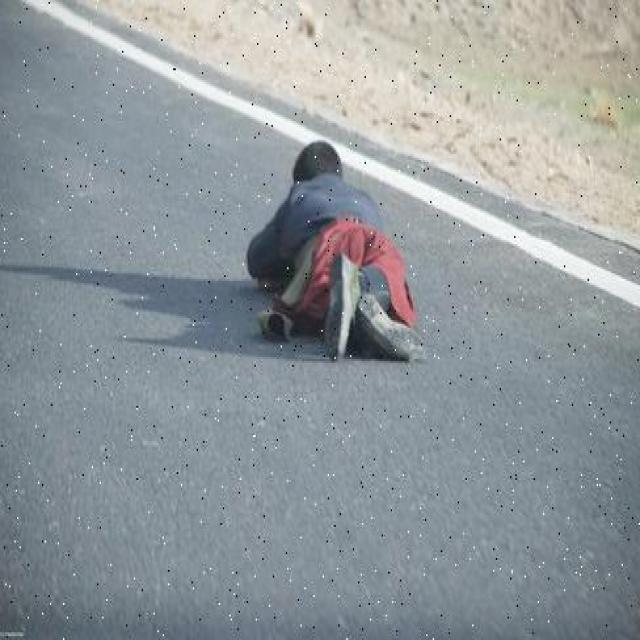fall: (248, 137, 427, 361)
